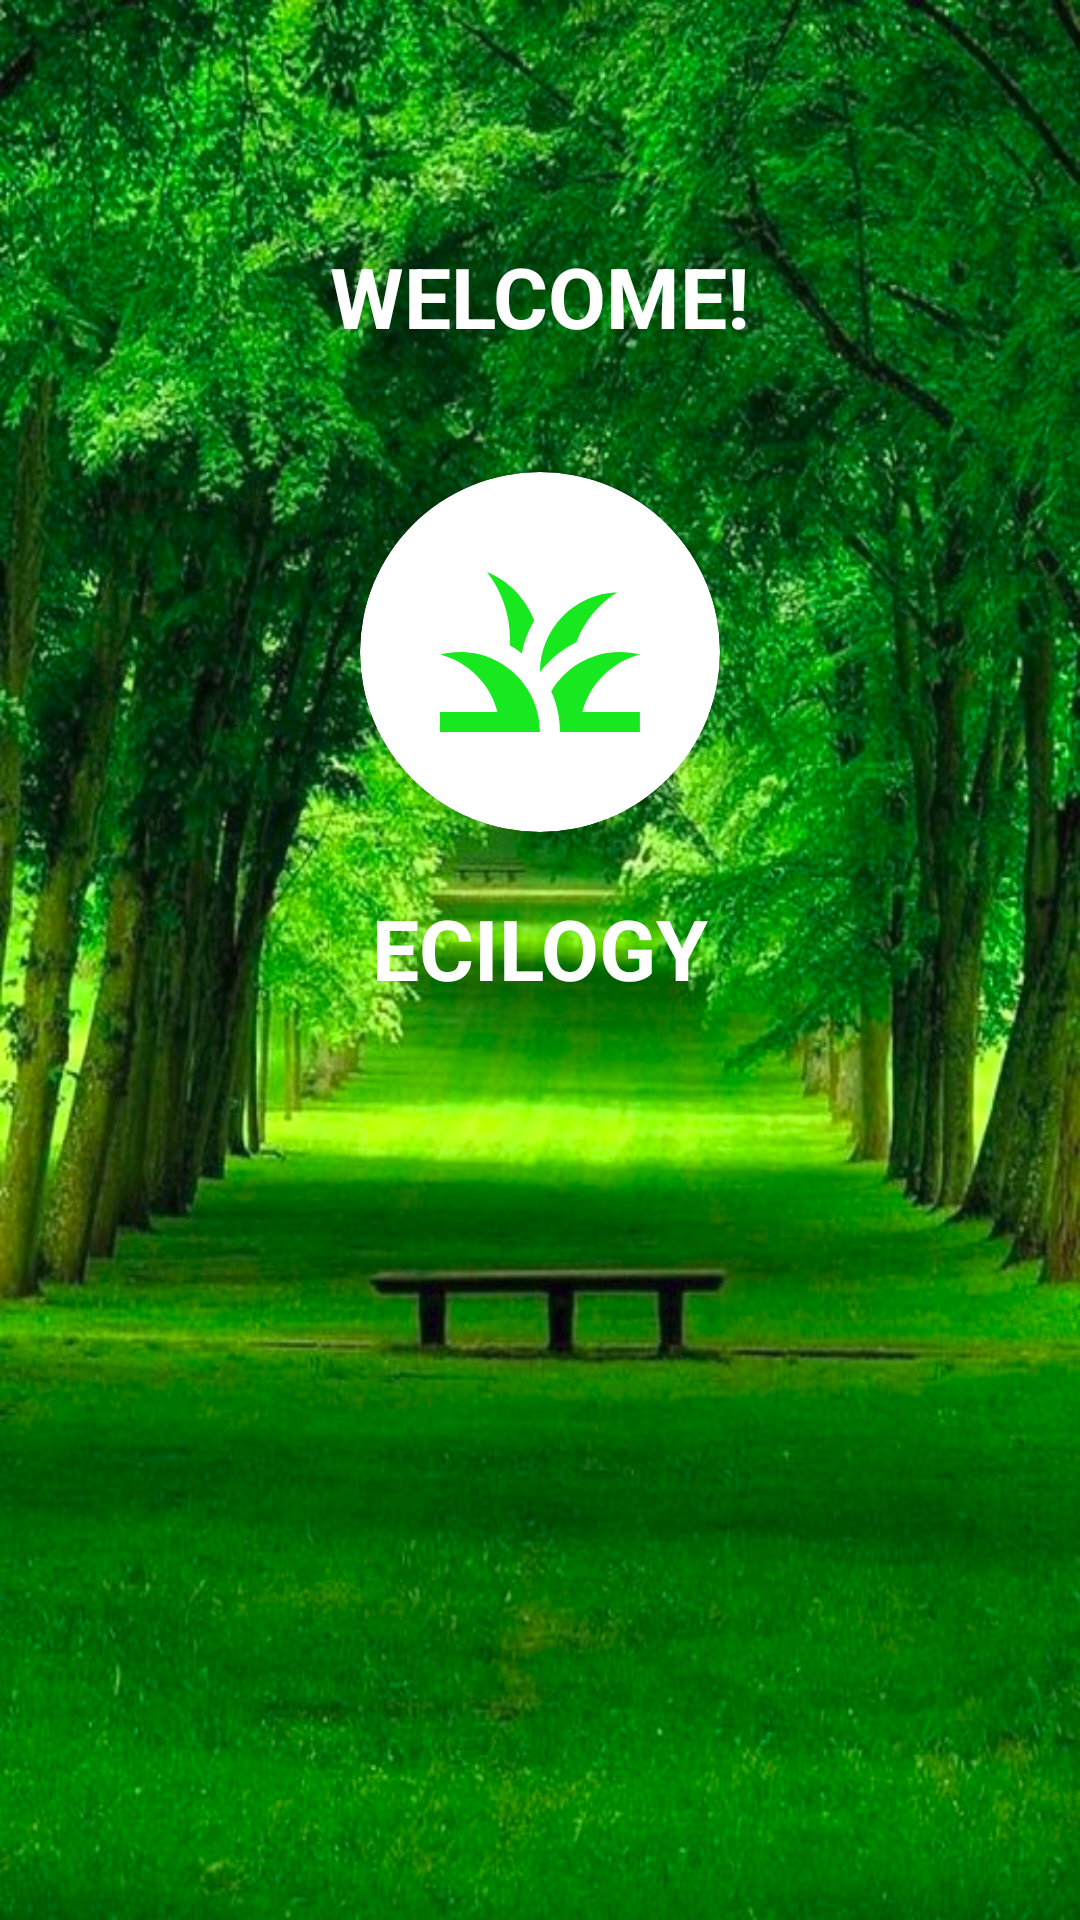

Icon click points for this 1080x1920 phone screenshot, format [x,y]:
grass: [540,652]
